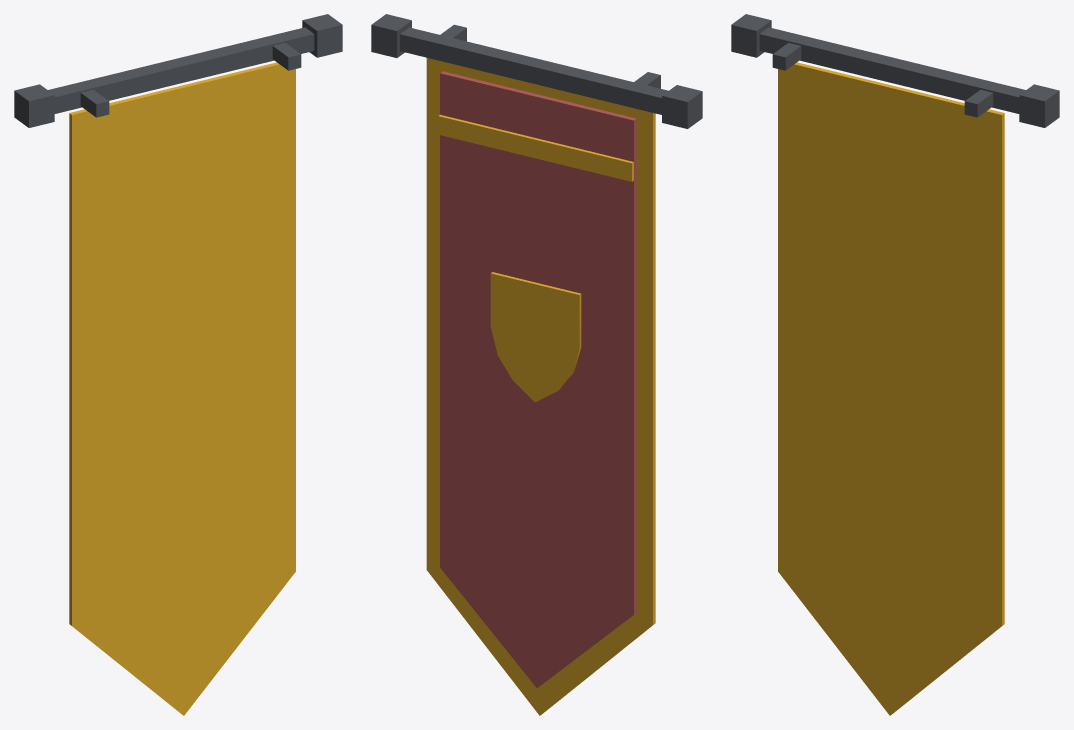
Rendered from Prop_WallBanner.fbx.
3 renders of one model, left to right at view 1: azimuth 30°, elevation 25°; view 2: azimuth 150°, elevation 25°; view 3: azimuth 330°, elevation 25°, orthographic.
Visible parts, largest first — view 1: Prop_WallBanner_Gold, Prop_WallBanner_Iron; view 2: Prop_WallBanner_Crimson, Prop_WallBanner_Gold, Prop_WallBanner_Iron; view 3: Prop_WallBanner_Gold, Prop_WallBanner_Iron.
Part boxes in pixels (<box>): Prop_WallBanner_Gold: <box>69,62,295,715</box>; Prop_WallBanner_Iron: <box>14,14,342,127</box>; Prop_WallBanner_Crimson: <box>440,71,636,687</box>; Prop_WallBanner_Gold: <box>426,58,655,715</box>; Prop_WallBanner_Iron: <box>371,14,702,128</box>; Prop_WallBanner_Gold: <box>778,62,1004,715</box>; Prop_WallBanner_Iron: <box>731,14,1059,127</box>.
Bounding box in the file's own units: 3.92 × 7.81 × 0.6.
